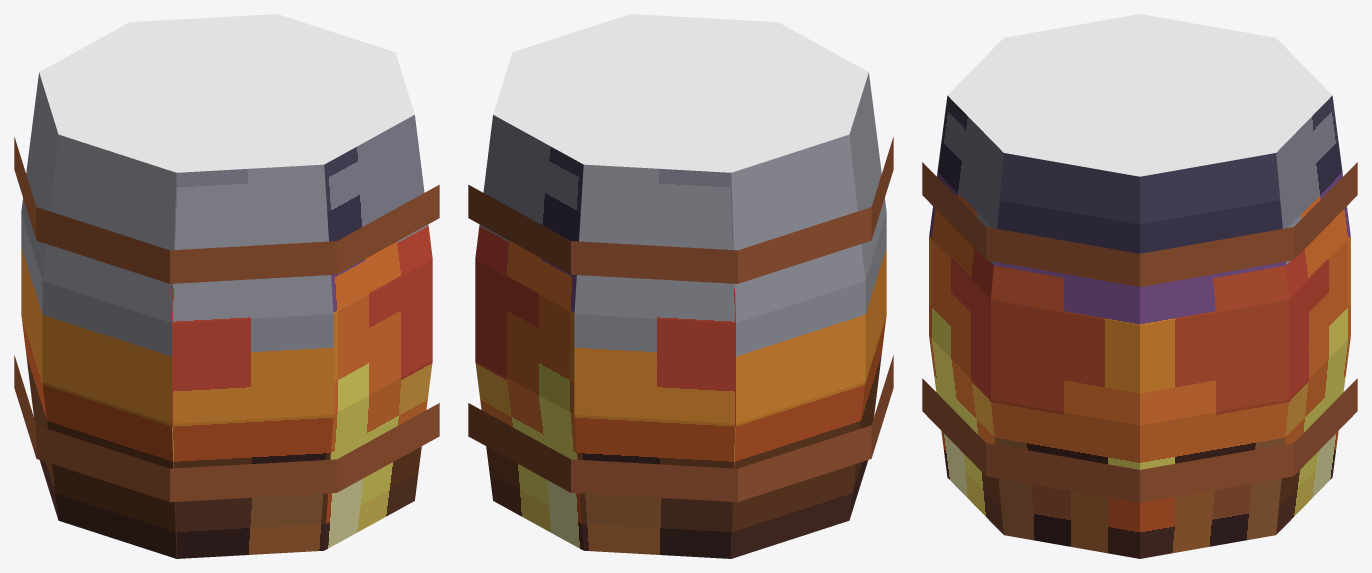
Rendered from burning_log.glb.
The picture shows the model from 3 angles, left to right: view 1: azimuth 30°, elevation 25°; view 2: azimuth 150°, elevation 25°; view 3: azimuth 270°, elevation 25°; orthographic projection.
Parts seen in each view (by area): view 1: burning_log; view 2: burning_log; view 3: burning_log.
Part boxes in pixels (bbox=[...]): burning_log: bbox=[14, 14, 439, 558]; burning_log: bbox=[468, 14, 893, 558]; burning_log: bbox=[922, 14, 1357, 558].
Bounding box in the file's own units: 1 × 0.9684 × 1.
1 material, 1 textured.
